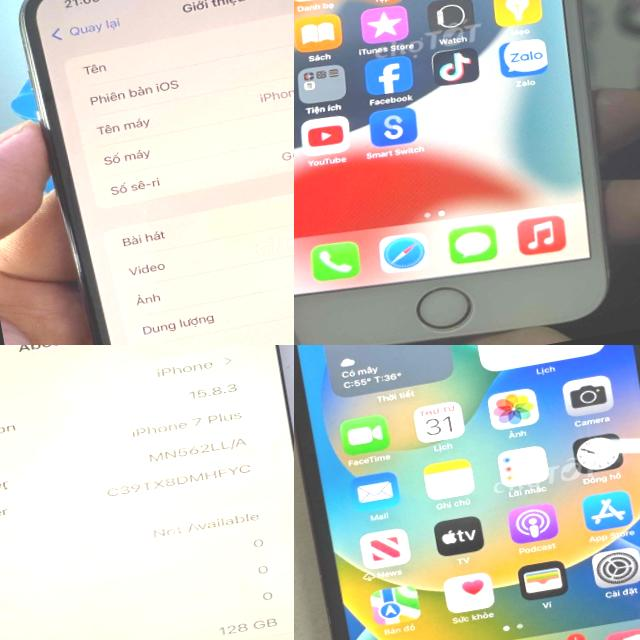gen_11: (0, 0, 294, 345)
gen_6: (294, 0, 640, 345)
gen_7_8: (294, 345, 640, 640), (0, 345, 294, 640)
